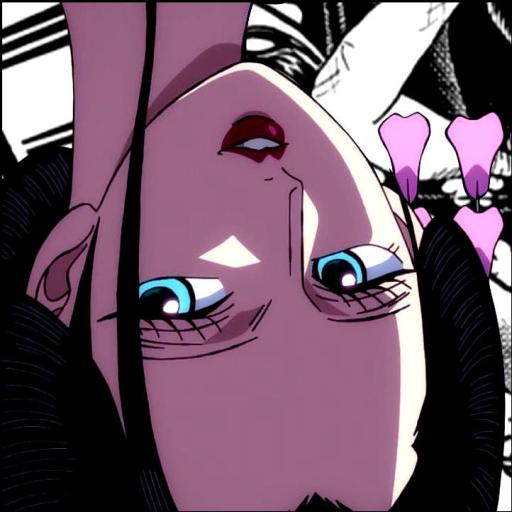NicoRobin: (26, 6, 500, 512)
